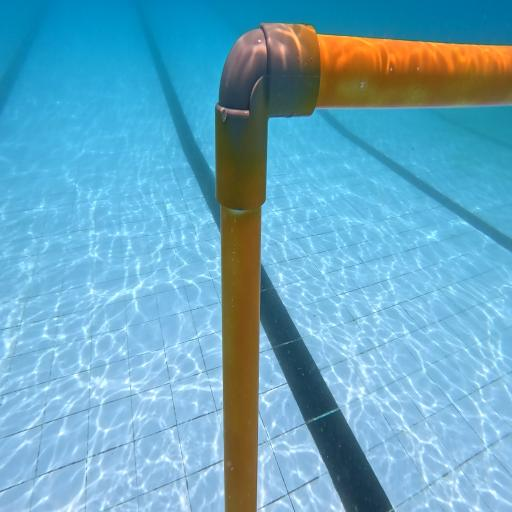gate: (215, 23, 512, 512)
